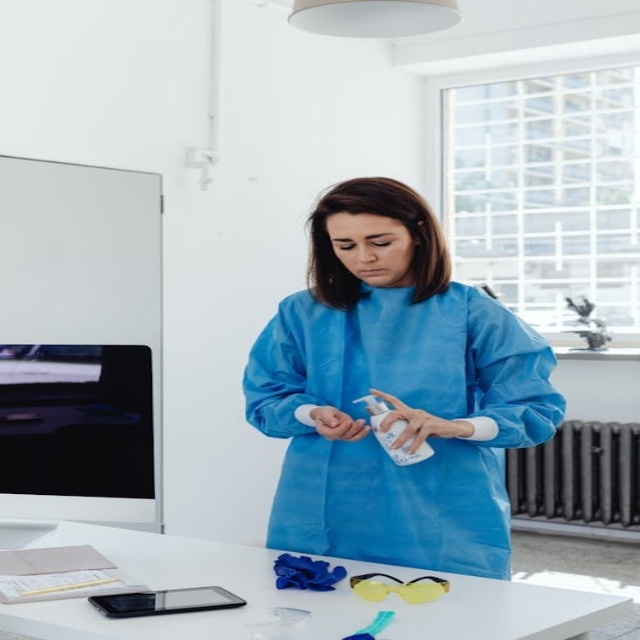Sin_gafas: (333, 231, 398, 253)
Sin_guantes: (363, 388, 474, 454), (307, 404, 370, 442)
Sin_mascara: (351, 266, 397, 286)
